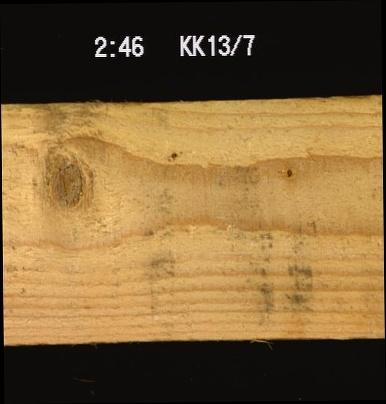dry_knot: (281, 162, 293, 179)
small_knot: (166, 144, 180, 161)
sound_knot: (36, 153, 94, 214)
